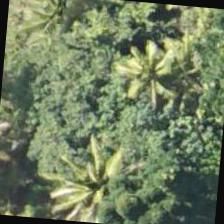Kelapa_Sawit: (52, 124, 150, 222), (96, 18, 194, 116), (6, 0, 96, 46)
